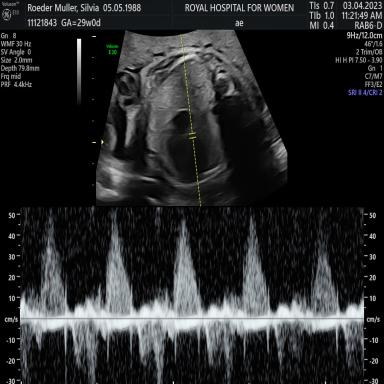Ultrasound-Waves: (25, 206, 360, 384)
